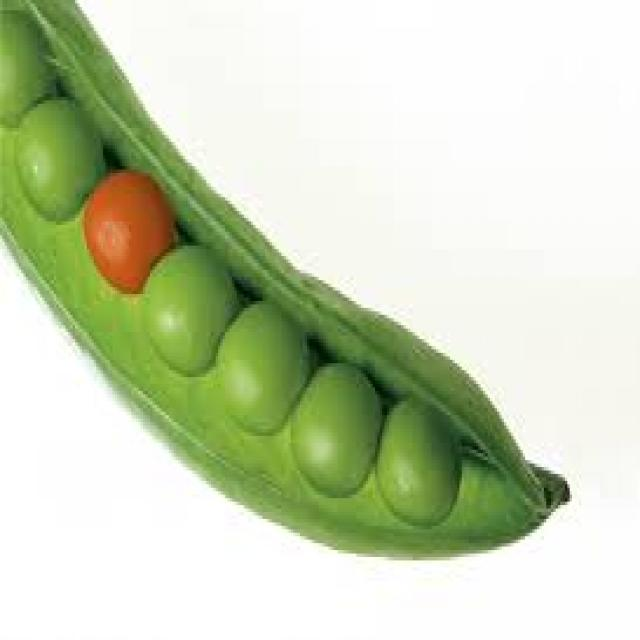organic waste: (0, 0, 570, 550), (82, 162, 181, 290), (138, 239, 239, 363), (298, 346, 380, 498), (220, 290, 310, 426), (16, 94, 108, 208), (382, 391, 462, 515), (0, 6, 56, 124)
